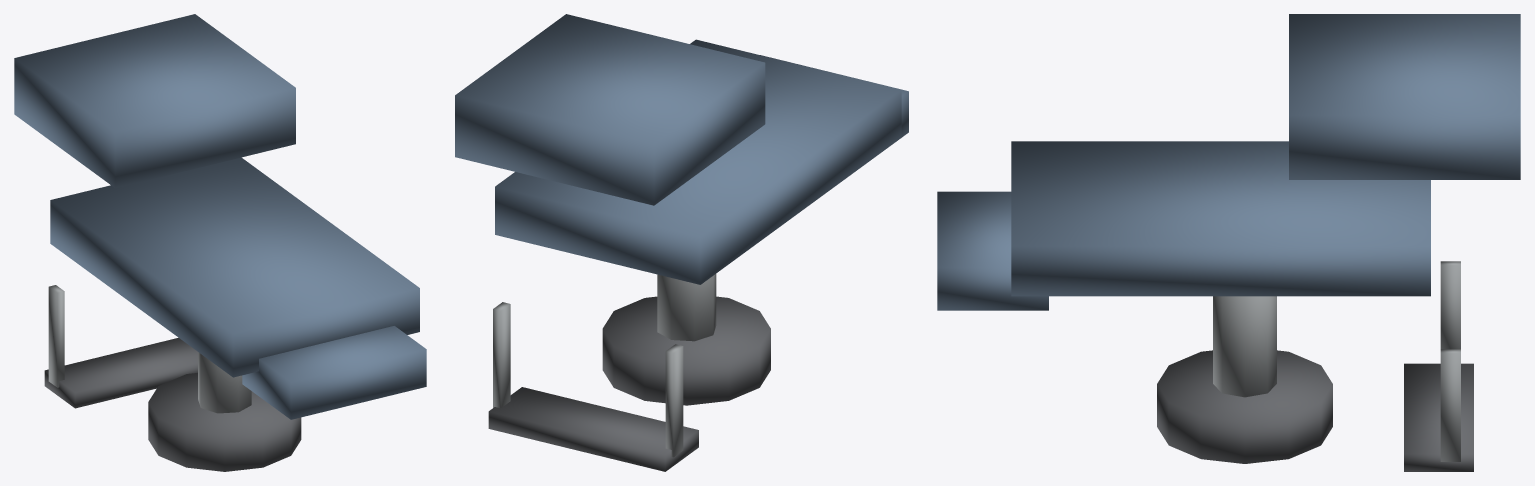
The model's file is dentist_chair__reinforced.glb.
3 views of the same model, side by side, from view 1: azimuth 30°, elevation 25°; view 2: azimuth 150°, elevation 25°; view 3: azimuth 270°, elevation 25° (orthographic). The views are drawn at different scales.
Parts seen in each view (by area): view 1: world; view 2: world; view 3: world.
Part boxes in pixels (bbox=[...]): world: bbox=[14, 14, 426, 471]; world: bbox=[455, 14, 908, 471]; world: bbox=[937, 14, 1520, 471].
Size of the model in its own units: 0.6386 by 1.03 by 1.5.
